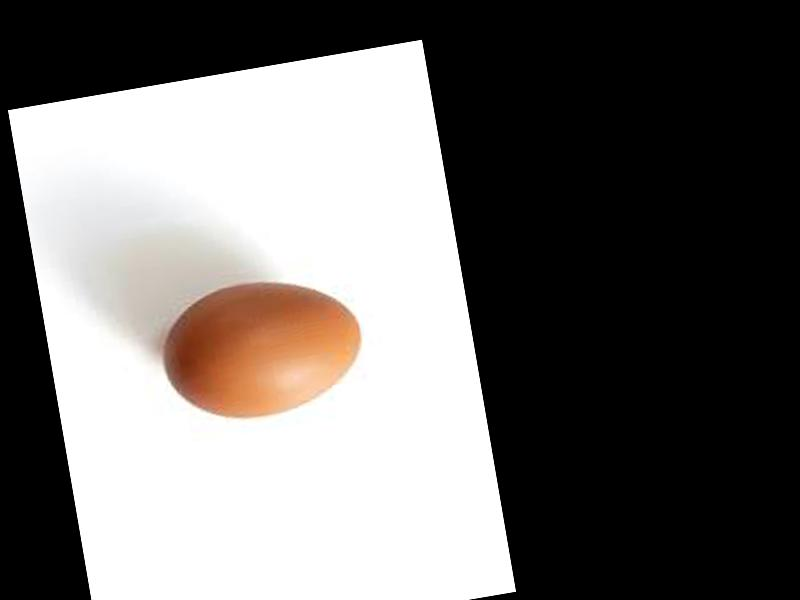Eggs: (154, 267, 372, 429)
